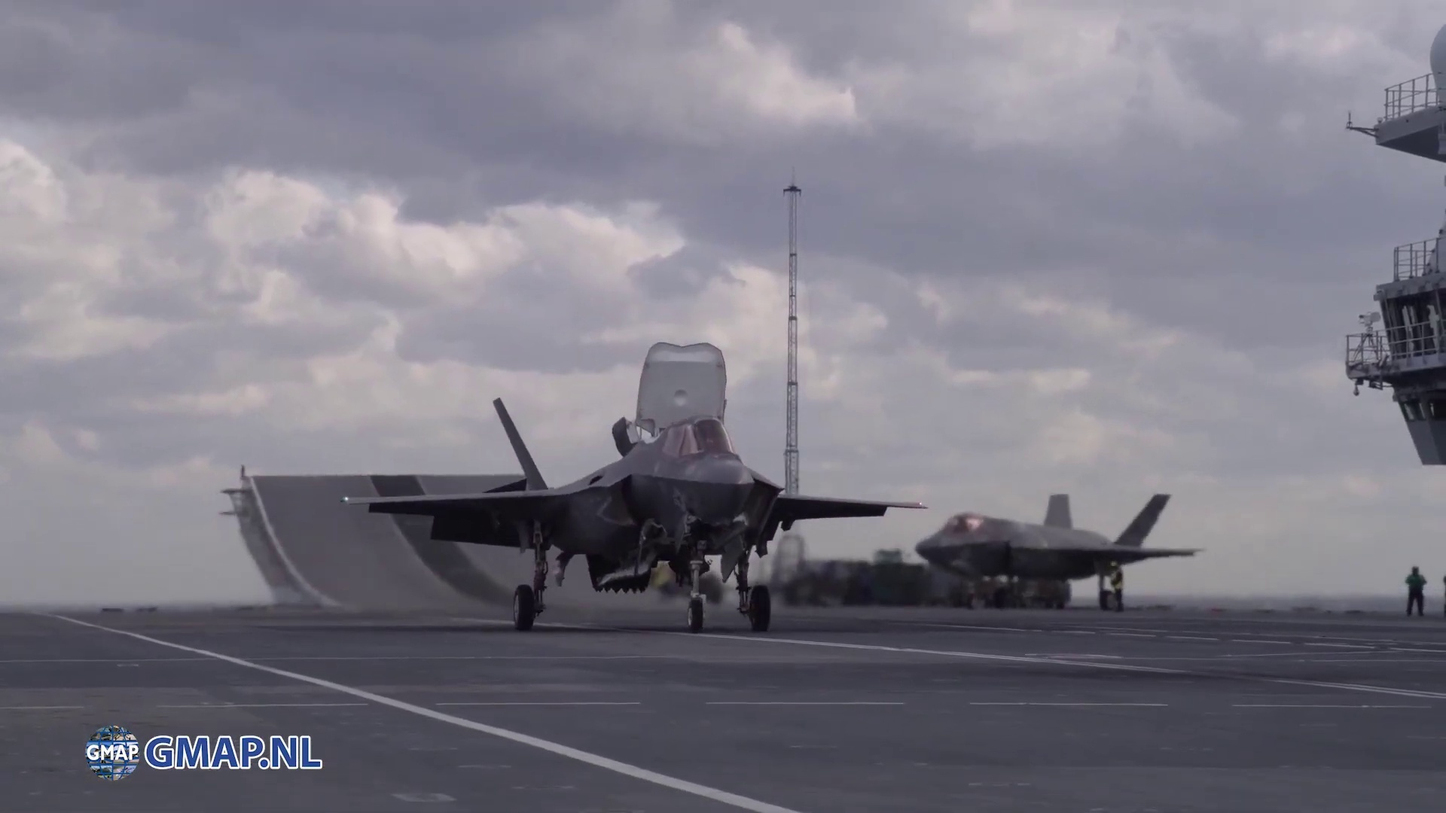F35: (337, 339, 930, 632), (917, 484, 1208, 611)
